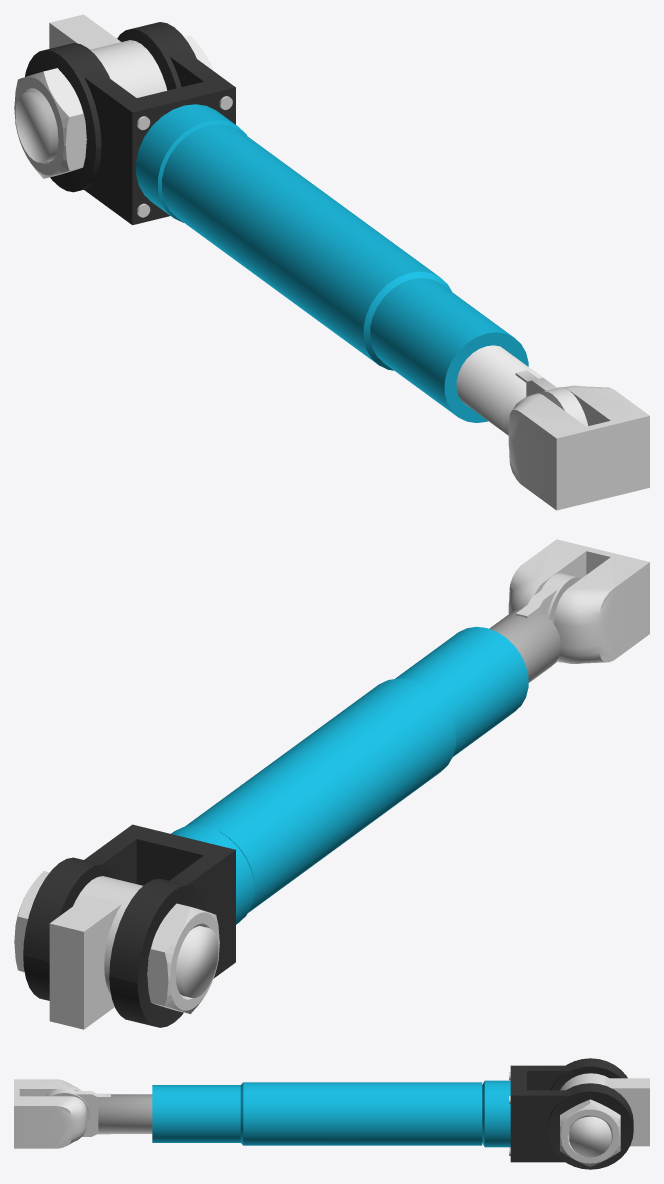
File: piston.fbx
3 renders of one model, top to bottom at view 1: azimuth 30°, elevation 25°; view 2: azimuth 150°, elevation 25°; view 3: azimuth 270°, elevation 25°, orthographic. The views are drawn at different scales.
Visible parts, largest first — view 1: Bolt.001; view 2: Bolt.001; view 3: Bolt.001.
Boxes of the visible parts, x1,y1,x2,y2 form: Bolt.001: (14,14,649,510); Bolt.001: (14,539,649,1029); Bolt.001: (14,1058,649,1169).
Bounding box in the file's own units: 486 × 367 × 2702.
